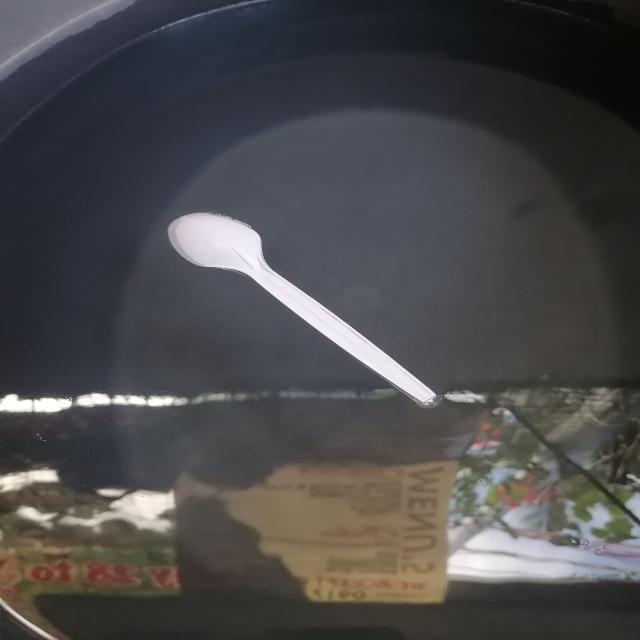Plastic Spoon: (168, 213, 437, 406)
